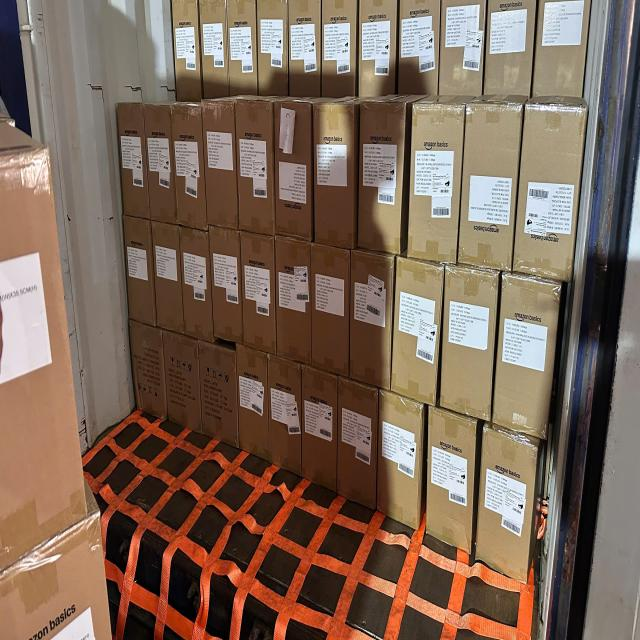Carton: (518, 98, 586, 272), (463, 105, 521, 274), (496, 274, 556, 432), (479, 429, 536, 583), (409, 106, 462, 266), (440, 268, 492, 422), (425, 410, 475, 555), (393, 259, 441, 406), (357, 106, 402, 258), (316, 105, 360, 251), (376, 394, 422, 532), (350, 250, 393, 388), (234, 104, 274, 238), (537, 0, 591, 98), (275, 100, 313, 236), (312, 245, 351, 376), (339, 378, 378, 507), (487, 0, 535, 99), (300, 368, 337, 496), (276, 237, 312, 362), (174, 107, 209, 233), (197, 341, 238, 448), (164, 331, 206, 435), (439, 0, 483, 99), (238, 233, 274, 352), (205, 105, 238, 233), (399, 0, 442, 98), (267, 358, 302, 478), (356, 0, 395, 99), (129, 324, 167, 423), (124, 214, 157, 325), (144, 103, 174, 224), (235, 344, 267, 457), (210, 232, 242, 344), (119, 106, 149, 221), (286, 0, 321, 98), (324, 0, 358, 99), (153, 221, 182, 335), (182, 230, 211, 341), (257, 0, 288, 97), (226, 0, 256, 96), (172, 2, 199, 101), (200, 0, 227, 98)
